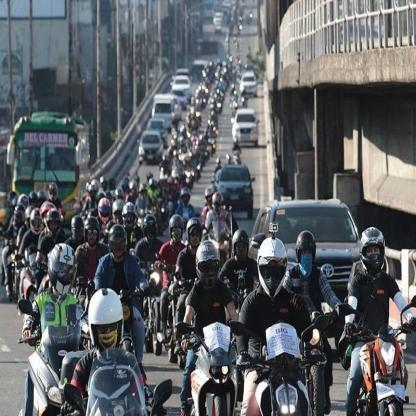helmet: (87, 288, 124, 353), (257, 237, 288, 299), (48, 243, 78, 296), (195, 240, 221, 289), (359, 227, 386, 274), (294, 229, 316, 268), (108, 224, 128, 264), (231, 228, 250, 261), (121, 201, 139, 232), (82, 215, 100, 245), (186, 217, 203, 247), (45, 208, 61, 238), (169, 214, 184, 243), (143, 214, 158, 242), (30, 207, 43, 236), (98, 197, 111, 223), (211, 191, 224, 216), (13, 205, 26, 228), (179, 187, 191, 208), (48, 182, 59, 202)
